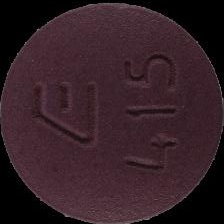54868-4892: (0, 0, 224, 224)
